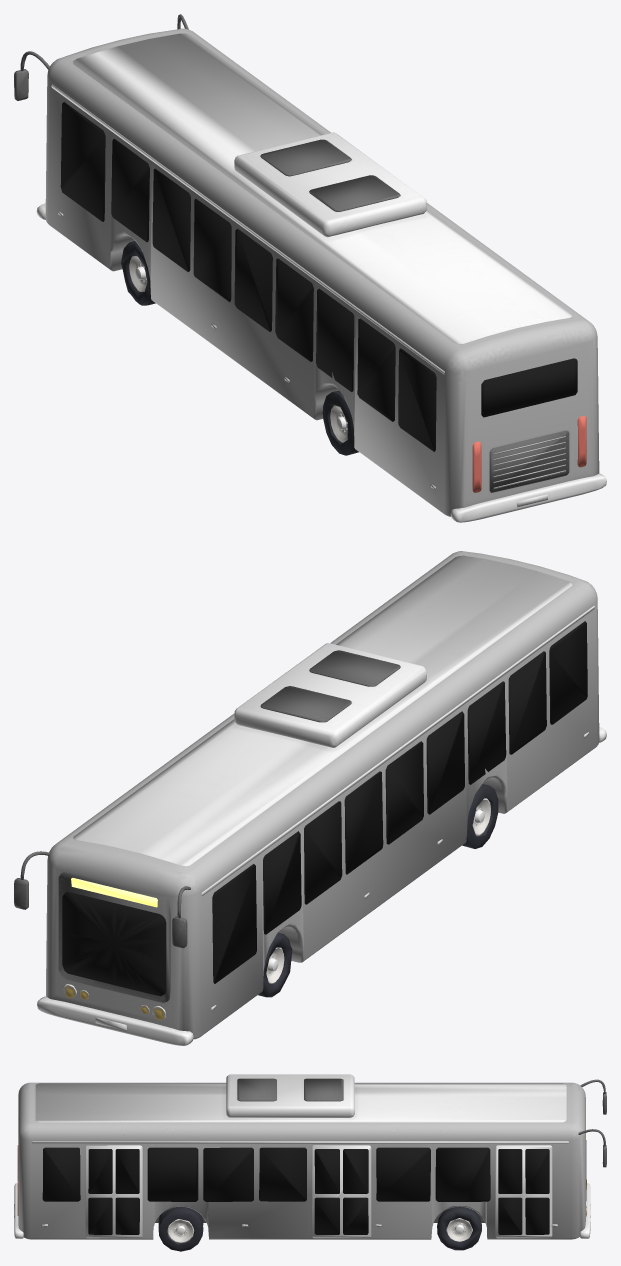
The model's file is bus-colored.glb.
The picture shows the model from 3 angles, top to bottom: view 1: azimuth 30°, elevation 25°; view 2: azimuth 150°, elevation 25°; view 3: azimuth 270°, elevation 25°; orthographic projection. The views are drawn at different scales.
Parts seen in each view (by area): view 1: city-bus_body, city-bus_windows, city-bus_wheel_rl, city-bus_wheel_fl, city-bus_taillights; view 2: city-bus_body, city-bus_windows, city-bus_wheel_rl, city-bus_wheel_fl, city-bus_destination_display; view 3: city-bus_body, city-bus_windows, city-bus_door_windows, city-bus_wheel_rr, city-bus_wheel_fr.
Boxes of the visible parts, x1,y1,x2,y2 form: city-bus_body: (14,14,606,522); city-bus_windows: (60,102,577,451); city-bus_wheel_rl: (322,390,358,455); city-bus_wheel_fl: (121,241,155,305); city-bus_taillights: (472,416,586,492); city-bus_body: (14,551,606,1045); city-bus_windows: (62,621,587,996); city-bus_wheel_rl: (462,784,498,848); city-bus_wheel_fl: (258,932,292,997); city-bus_destination_display: (71,878,157,907); city-bus_body: (14,1074,606,1239); city-bus_windows: (42,1140,586,1201); city-bus_door_windows: (88,1149,549,1234); city-bus_wheel_rr: (158,1206,203,1251); city-bus_wheel_fr: (437,1206,481,1250).
Bounding box in the file's own units: 2.83 × 3.21 × 12.45.
Materials: 8 (1 with a texture image).
